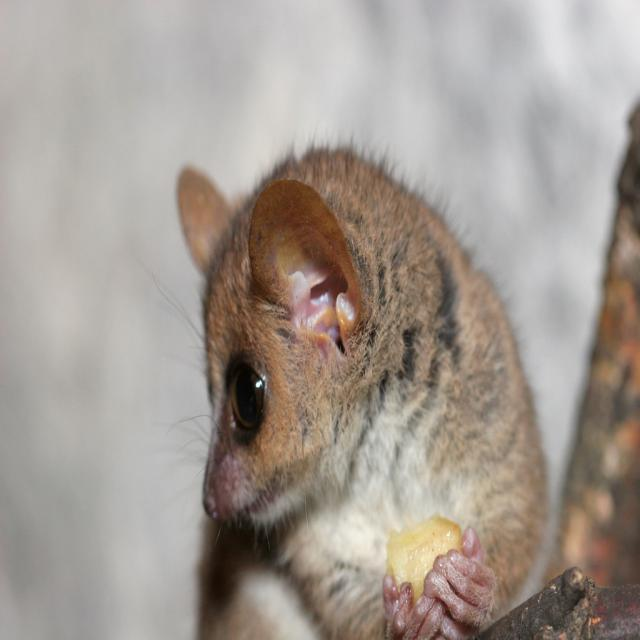rat: (152, 123, 553, 637)
